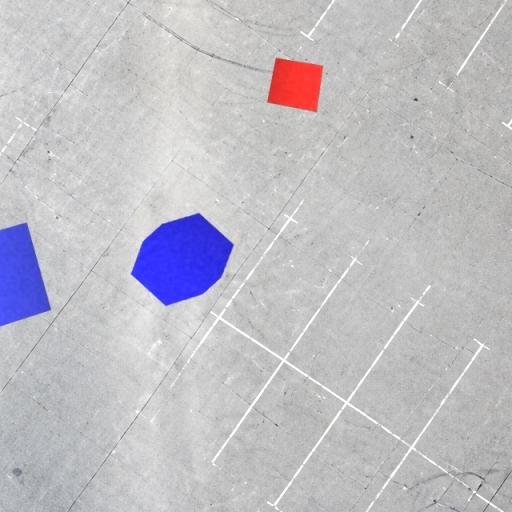BLUE_SQUARE: (0, 222, 52, 339)
RED_SQUARE: (267, 58, 324, 112)
